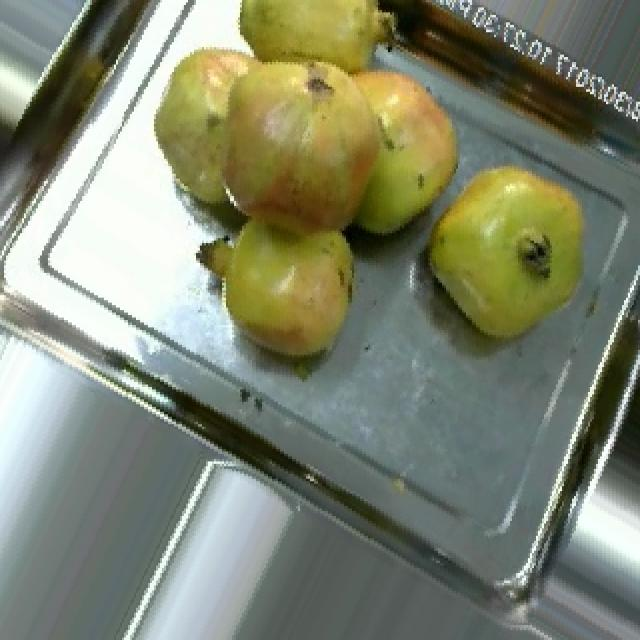fruit: (126, 5, 404, 253), (404, 134, 620, 362), (182, 198, 378, 390)
